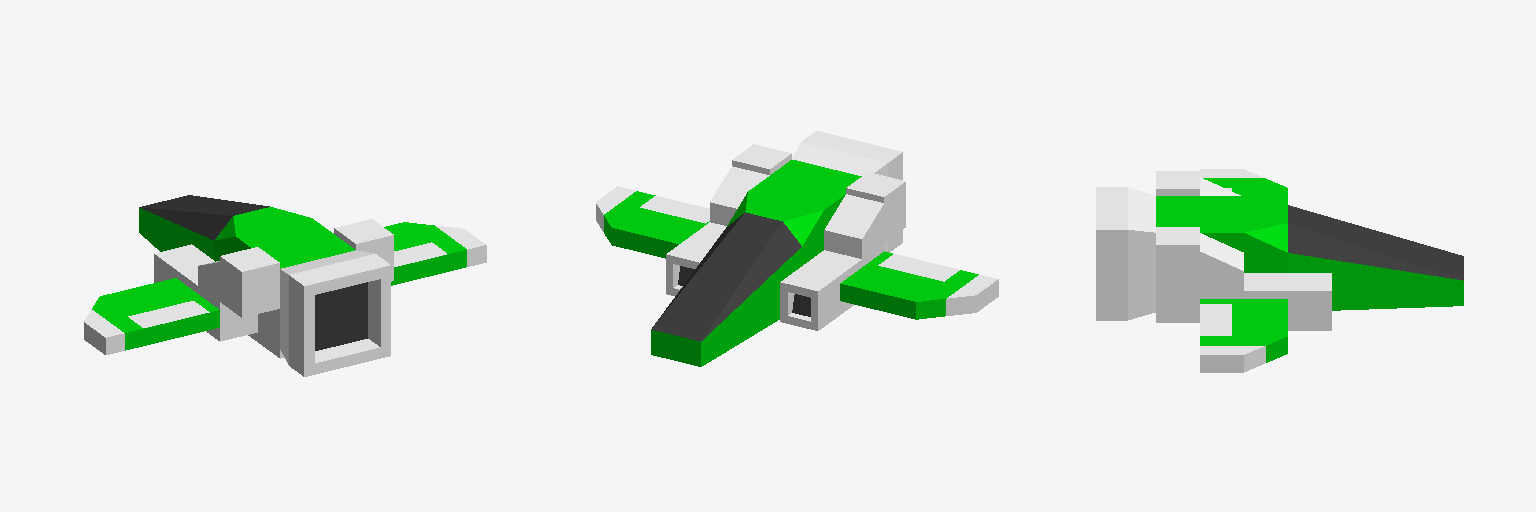
Rendered from spaceCraft2.obj.
3 renders of one model, left to right at view 1: azimuth 30°, elevation 25°; view 2: azimuth 150°, elevation 25°; view 3: azimuth 270°, elevation 25°, orthographic.
Parts seen in each view (by area): view 1: spaceCraft1; view 2: spaceCraft1; view 3: spaceCraft1.
Boxes of the visible parts, x1=… form: spaceCraft1: x1=84, y1=195, x2=486, y2=376; spaceCraft1: x1=596, y1=131, x2=998, y2=366; spaceCraft1: x1=1096, y1=169, x2=1463, y2=372.
Size of the model in its own units: 19.75 by 4.75 by 16.5.